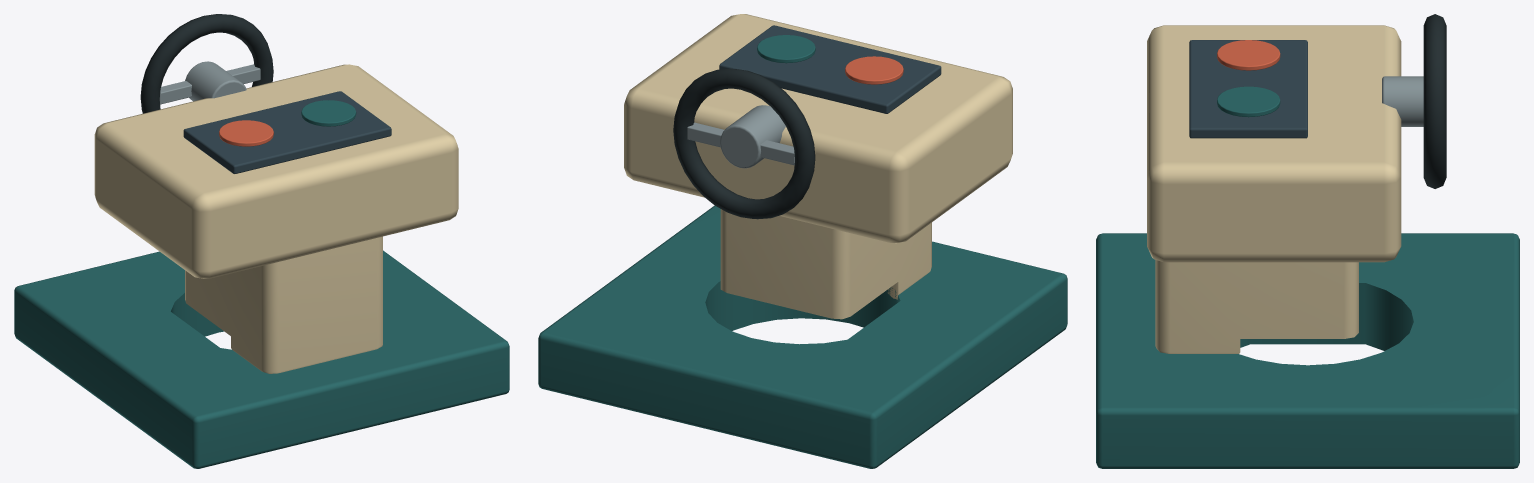
Rendered from helm-lod-0.glb.
3 views of the same model, side by side, from view 1: azimuth 30°, elevation 25°; view 2: azimuth 150°, elevation 25°; view 3: azimuth 270°, elevation 25° (orthographic). The views are drawn at different scales.
Parts seen in each view (by area): view 1: helm_lod_0; view 2: helm_lod_0; view 3: helm_lod_0.
Part boxes in pixels (box(x1,y1,x2,y2)): helm_lod_0: box(14, 14, 509, 468); helm_lod_0: box(538, 14, 1067, 468); helm_lod_0: box(1096, 14, 1519, 468).
Bounding box in the file's own units: 1 × 0.937 × 1.
